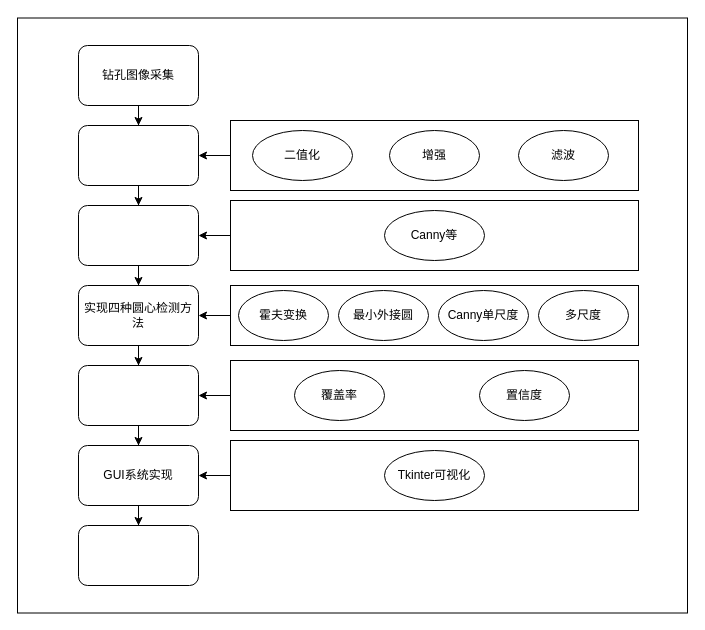
Some shapes in this 705 by 630 pixel diagram are drawn without their labels. Each missing label, with the centre of its shape:
"图像预处理" goes at pixel 138 155.
"对比分析" goes at pixel 138 395.
"结果分析与总结" goes at pixel 138 555.
"边缘检测" goes at pixel 138 235.
